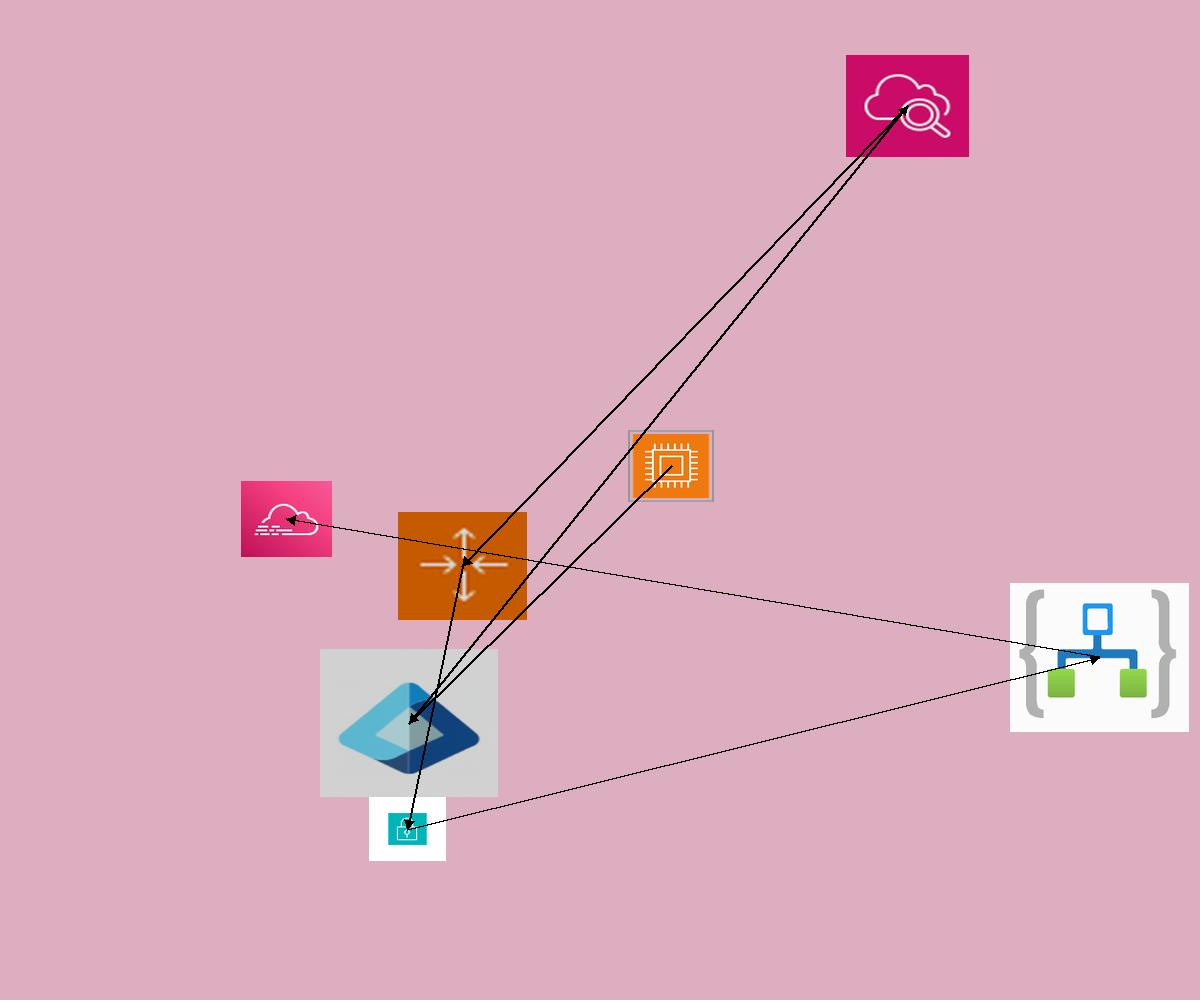AWS-Category_Compute: (628, 430, 714, 502)
AWS-CloudTrail: (241, 481, 332, 557)
AWS-CloudWatch: (846, 55, 969, 157)
AWS-Private-subnet: (369, 797, 446, 861)
AWS-Scaling-group: (398, 512, 527, 620)
Azure_integration-204-Logic-Apps: (1010, 583, 1189, 732)
Azure_microsoft_entra: (320, 649, 498, 797)
